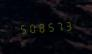eight: (36, 20, 44, 34)
five: (17, 21, 25, 35), (45, 20, 53, 33)
seven: (54, 19, 62, 32)
three: (63, 18, 71, 32)
zero: (26, 21, 34, 34)
